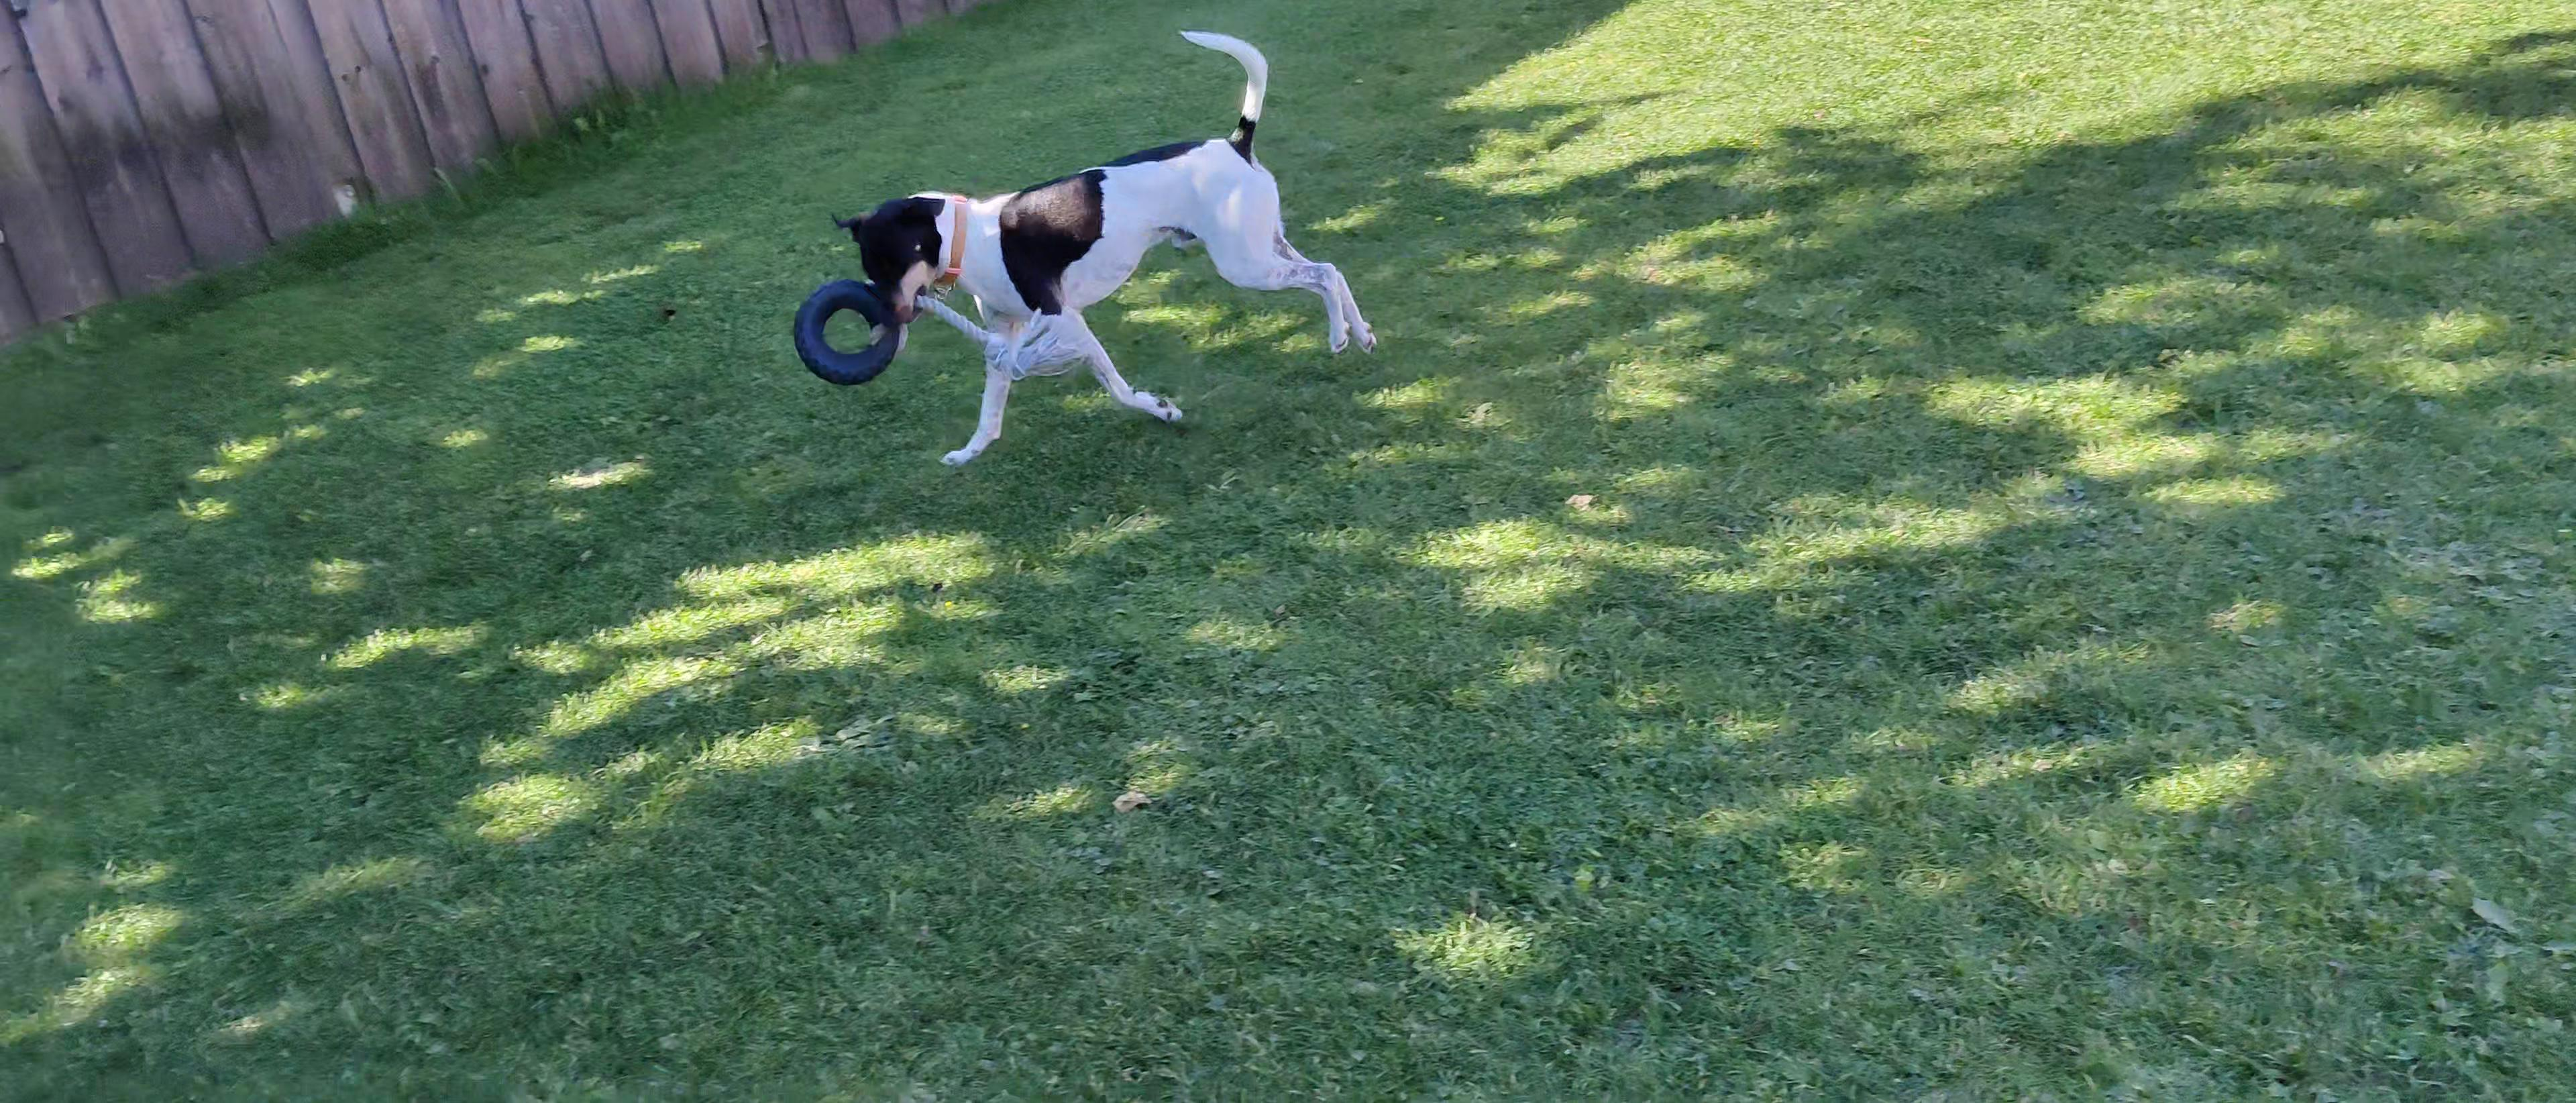Dog: (830, 21, 1387, 472)
